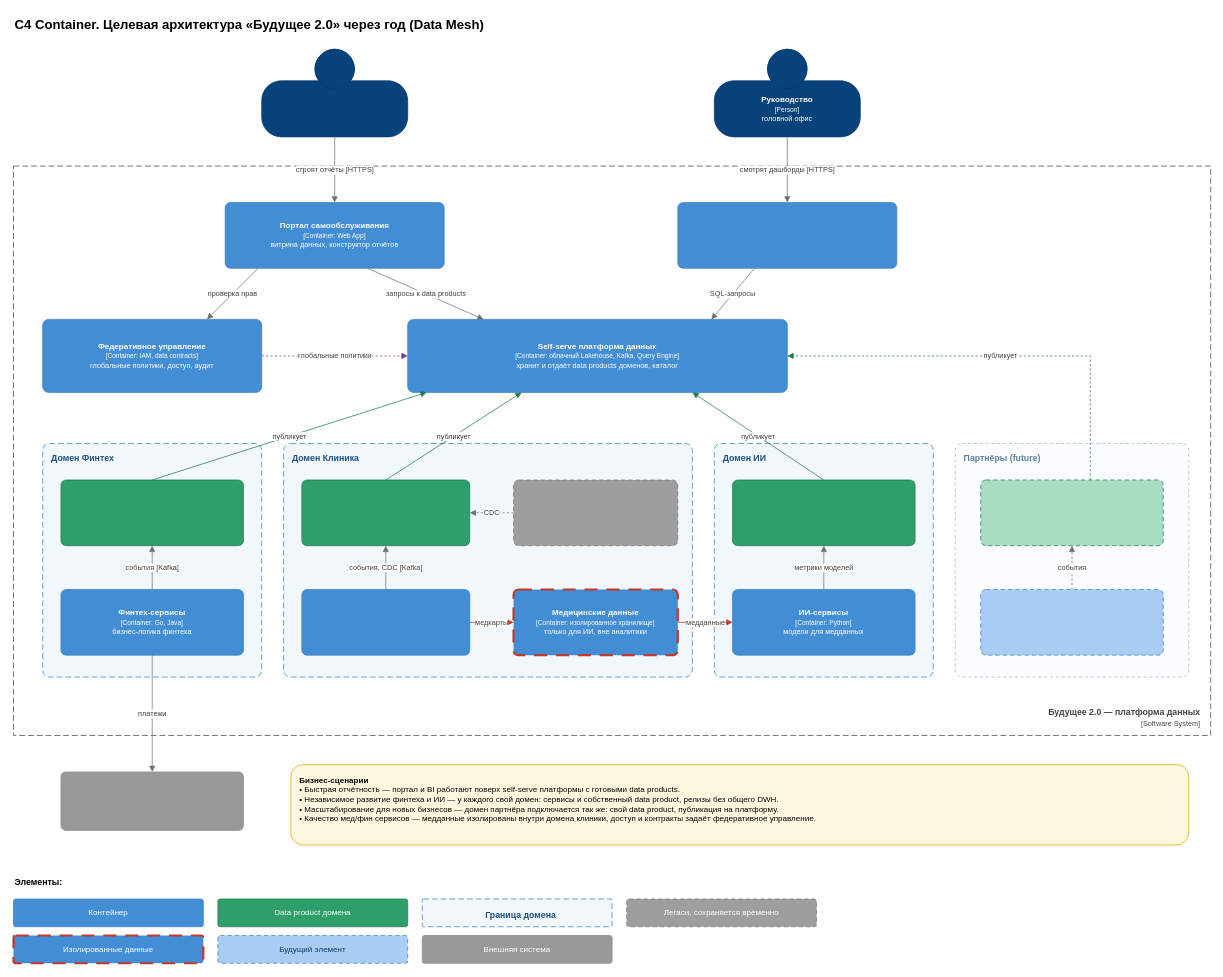
The diagram is 1223 pixels wide and 977 high, and some of its shapes have lost their labels. Here are the shapes that lost their labels. From the top down, the centre of each, then its label:
At point (334, 93): "Сотрудники доменов [Person] операторы клиник, финтех, ИИ, аналитики".
At point (787, 235): "BI и семантический слой [Container: BI, metrics layer] единые метрики, дашборды".
At point (151, 512): "Data product: финтех [Container: витрина домена] счета, кредиты, платежи".
At point (385, 512): "Data product: клиника [Container: витрина домена] визиты, счета, без медданных".
At point (595, 512): "Легаси DWH и PowerBuilder [Container: SQL Server 2008] работает до миграции".
At point (823, 512): "Data product: ИИ [Container: витрина домена] обезличенные метрики моделей".
At point (1071, 512): "Data product: партнёр [Container: витрина домена] фарма, электроника".
At point (385, 622): "Сервисы клиник [Container: операционная система] визиты, расписание".
At point (1071, 622): "Сервисы партнёров [Container: future]".
At point (151, 800): "Платёжные системы / ЦБ [External System]".
